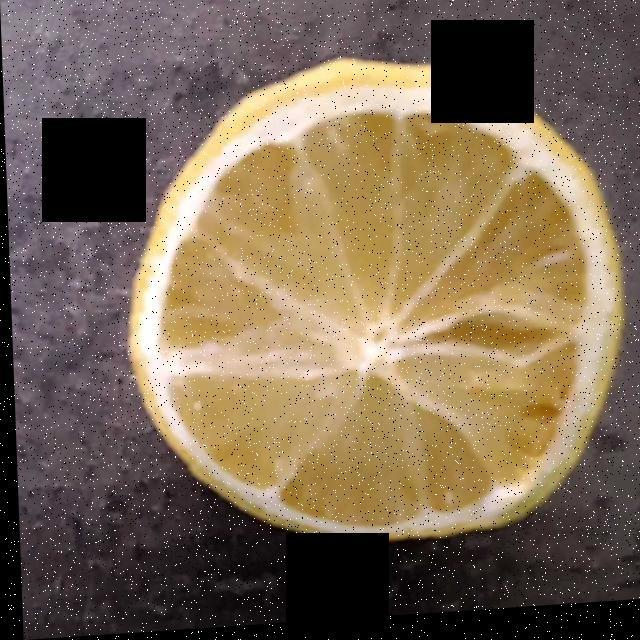lemon: (148, 90, 601, 529)
